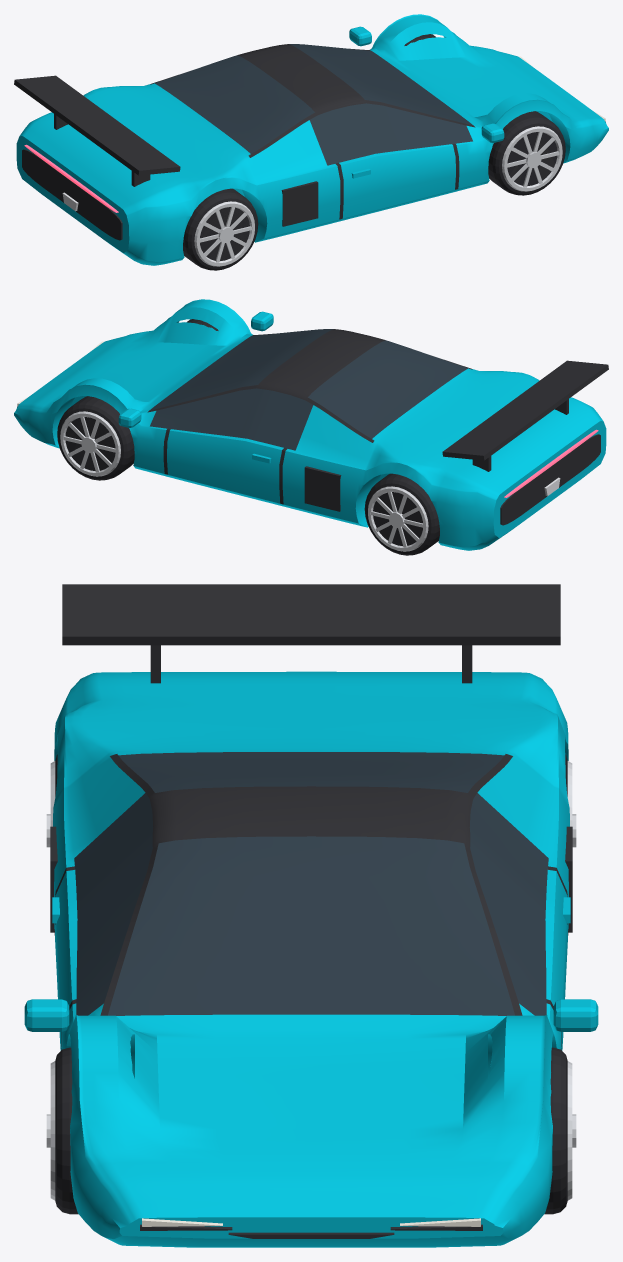
The model's file is maklaren_p1.fbx.
The picture shows the model from 3 angles, top to bottom: view 1: azimuth 30°, elevation 25°; view 2: azimuth 150°, elevation 25°; view 3: azimuth 270°, elevation 25°; orthographic projection. The views are drawn at different scales.
Parts seen in each view (by area): view 1: Body.034, Glass.034, Trim.034, Tire.034, Rim.034, TailLight.034; view 2: Body.034, Glass.034, Trim.034, Tire.034, Rim.034, TailLight.034; view 3: Body.034, Glass.034, Trim.034, Tire.034, Rim.034, HeadLight.034.
Boxes of the visible parts, x1=… form: Body.034: x1=16, y1=14, x2=608, y2=265; Glass.034: x1=155, y1=44, x2=473, y2=165; Trim.034: x1=14, y1=44, x2=605, y2=260; Tire.034: x1=183, y1=34, x2=565, y2=270; Rim.034: x1=194, y1=126, x2=562, y2=266; TailLight.034: x1=24, y1=144, x2=118, y2=212; Body.034: x1=14, y1=299, x2=606, y2=550; Glass.034: x1=149, y1=329, x2=467, y2=450; Trim.034: x1=17, y1=329, x2=608, y2=545; Tire.034: x1=57, y1=319, x2=439, y2=555; Rim.034: x1=60, y1=411, x2=428, y2=551; TailLight.034: x1=504, y1=429, x2=598, y2=497; Body.034: x1=24, y1=671, x2=598, y2=1247; Glass.034: x1=74, y1=752, x2=548, y2=1015; Trim.034: x1=50, y1=584, x2=572, y2=1238; Tire.034: x1=55, y1=754, x2=567, y2=1214; Rim.034: x1=46, y1=761, x2=576, y2=1200; HeadLight.034: x1=142, y1=1218, x2=480, y2=1226.
Size of the model in its own units: 1537 by 358 by 773.
